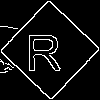R: (25, 25, 62, 71)
